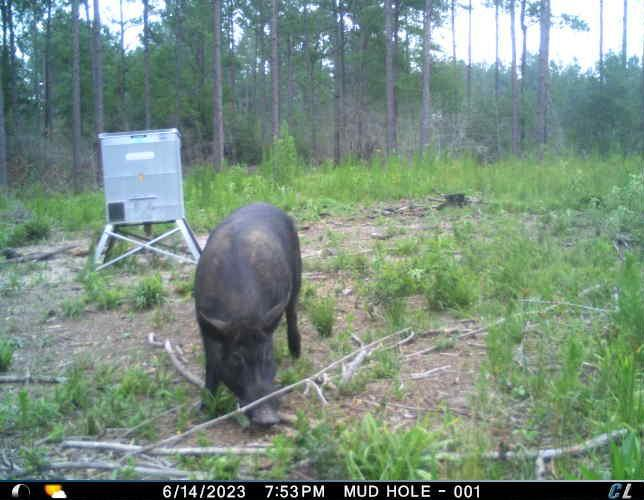Hog: (190, 199, 305, 436)
